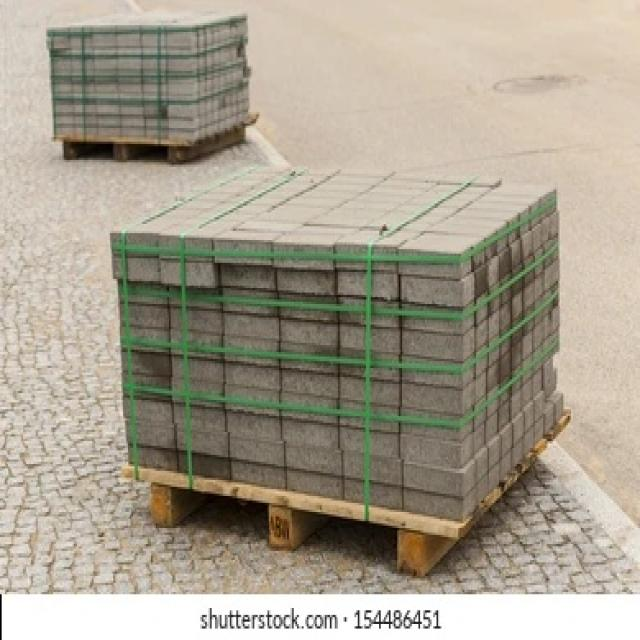bricks: (112, 165, 563, 517), (48, 14, 251, 142)
